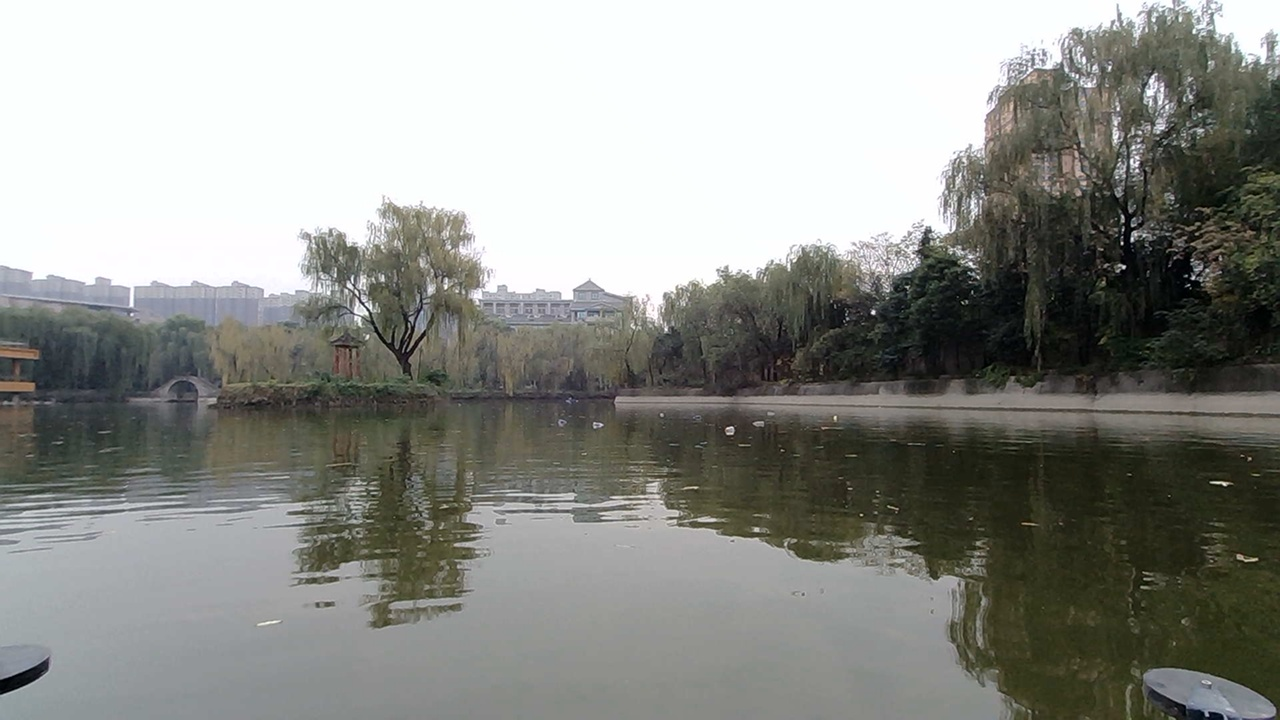bottle: (823, 407, 852, 434), (652, 403, 680, 422), (590, 411, 613, 434), (690, 404, 712, 423), (556, 409, 576, 429), (721, 420, 743, 437), (750, 412, 772, 428)
